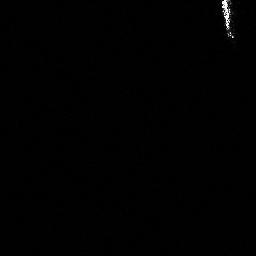ship: (217, 1, 235, 41)
